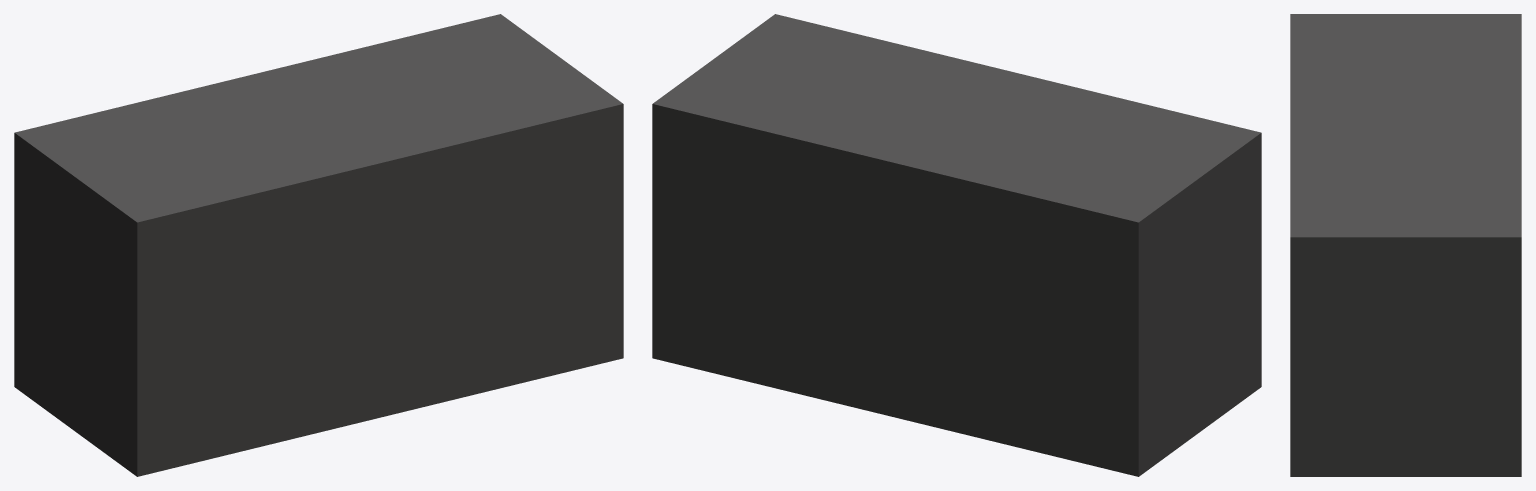
File: COSMIC_F_Perimeter_05U_Add.fbx
3 renders of one model, left to right at view 1: azimuth 30°, elevation 25°; view 2: azimuth 150°, elevation 25°; view 3: azimuth 270°, elevation 25°, orthographic. The views are drawn at different scales.
Parts seen in each view (by area): view 1: COSMIC_F_Perimeter_05U_Add; view 2: COSMIC_F_Perimeter_05U_Add; view 3: COSMIC_F_Perimeter_05U_Add.
Part boxes in pixels (x1,y1,x2,y2): COSMIC_F_Perimeter_05U_Add: [14, 14, 623, 476]; COSMIC_F_Perimeter_05U_Add: [652, 14, 1261, 476]; COSMIC_F_Perimeter_05U_Add: [1290, 14, 1521, 476].
Size of the model in its own units: 0.5 by 0.25 by 0.2188.
